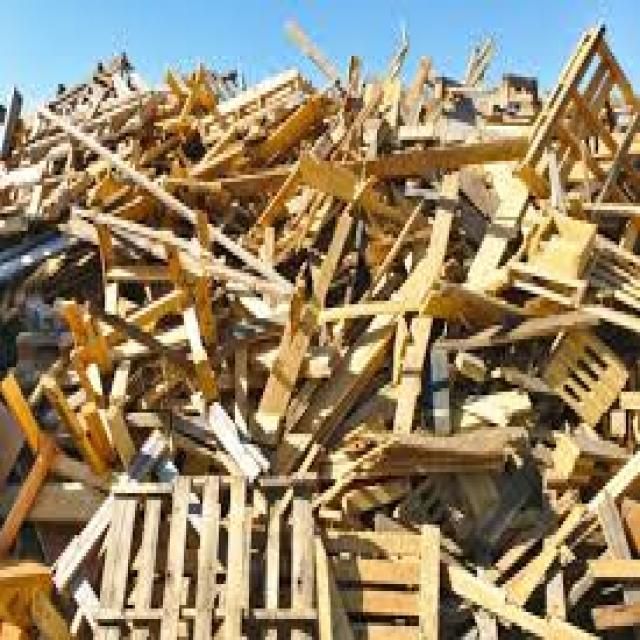green waste: (0, 46, 637, 625)
